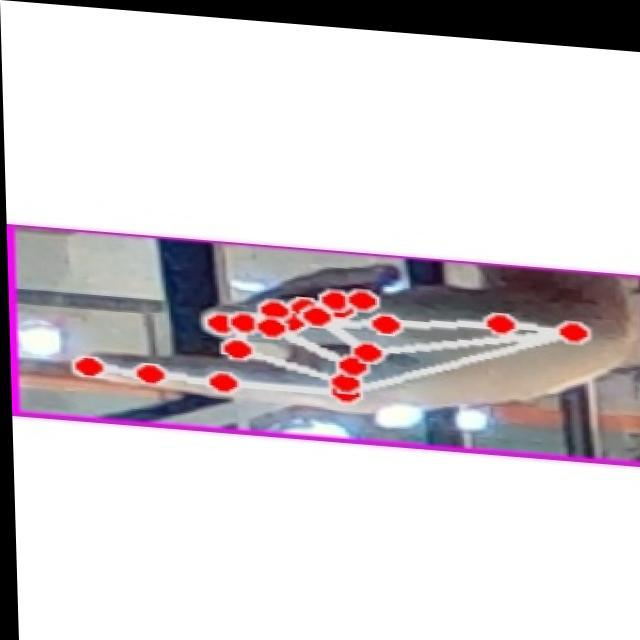G: (62, 235, 630, 426)
